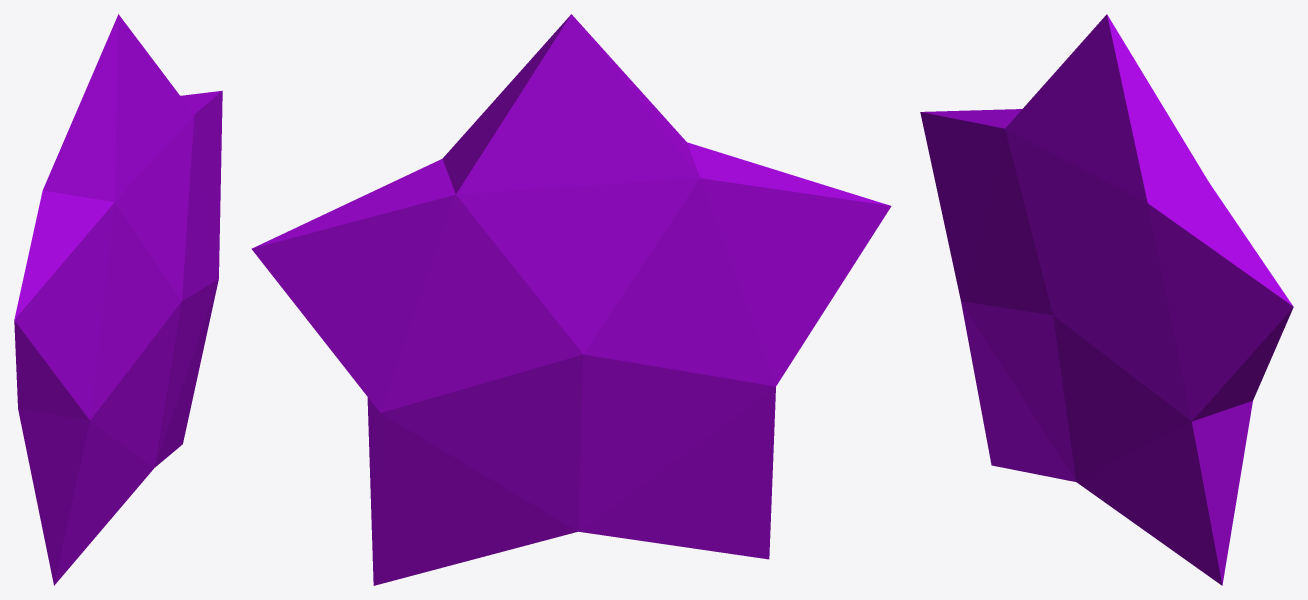
The model's file is звезда 2.fbx.
The picture shows the model from 3 angles, left to right: view 1: azimuth 30°, elevation 25°; view 2: azimuth 150°, elevation 25°; view 3: azimuth 270°, elevation 25°; orthographic projection. The views are drawn at different scales.
Visible parts, largest first — view 1: Икосфера; view 2: Икосфера; view 3: Икосфера.
Boxes of the visible parts, bbox=[...] form: Икосфера: bbox=[14, 14, 222, 585]; Икосфера: bbox=[251, 14, 891, 585]; Икосфера: bbox=[920, 14, 1293, 585].
Size of the model in its own units: 126 by 154 by 102.
